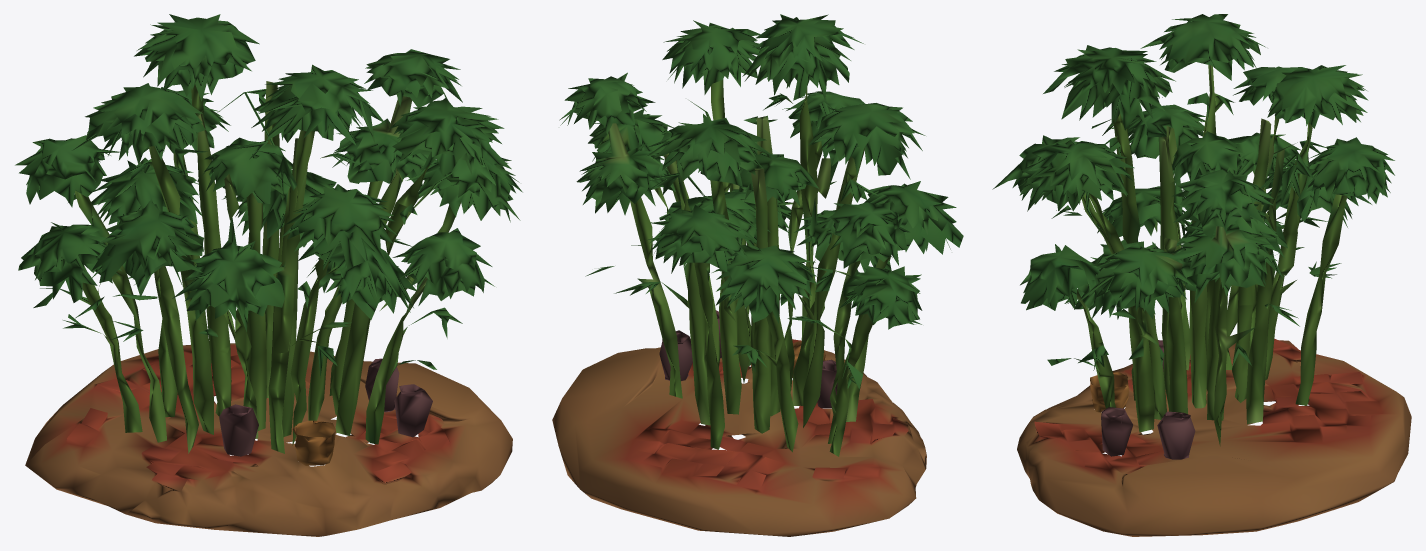
Rendered from bui-tre.50859bcc.glb.
The picture shows the model from 3 angles, left to right: view 1: azimuth 30°, elevation 25°; view 2: azimuth 150°, elevation 25°; view 3: azimuth 270°, elevation 25°; orthographic projection. The views are drawn at different scales.
Visible parts, largest first — view 1: tripo_part_1, tripo_part_4, tripo_part_5, tripo_part_7, tripo_part_3, tripo_part_2, tripo_part_0, tripo_part_8, tripo_part_12, tripo_part_9, tripo_part_11, tripo_part_20 (+19 smaller); view 2: tripo_part_1, tripo_part_5, tripo_part_2, tripo_part_7, tripo_part_4, tripo_part_8, tripo_part_0, tripo_part_3, tripo_part_10, tripo_part_23, tripo_part_21, tripo_part_27 (+18 smaller); view 3: tripo_part_1, tripo_part_2, tripo_part_4, tripo_part_0, tripo_part_8, tripo_part_7, tripo_part_12, tripo_part_21, tripo_part_10, tripo_part_5, tripo_part_3, tripo_part_15 (+20 smaller).
Part boxes in pixels (x1=…): tripo_part_1: x1=25, y1=343, x2=512, y2=536; tripo_part_4: x1=229, y1=64, x2=385, y2=453; tripo_part_5: x1=15, y1=135, x2=166, y2=442; tripo_part_7: x1=72, y1=83, x2=213, y2=434; tripo_part_3: x1=91, y1=200, x2=203, y2=453; tripo_part_2: x1=329, y1=96, x2=522, y2=395; tripo_part_0: x1=385, y1=98, x2=511, y2=254; tripo_part_8: x1=134, y1=14, x2=259, y2=212; tripo_part_12: x1=365, y1=228, x2=494, y2=444; tripo_part_9: x1=290, y1=243, x2=416, y2=445; tripo_part_11: x1=172, y1=217, x2=284, y2=331; tripo_part_20: x1=281, y1=184, x2=397, y2=269; tripo_part_1: x1=552, y1=339, x2=926, y2=536; tripo_part_5: x1=807, y1=202, x2=922, y2=443; tripo_part_2: x1=576, y1=108, x2=682, y2=398; tripo_part_7: x1=803, y1=103, x2=925, y2=427; tripo_part_4: x1=742, y1=14, x2=863, y2=368; tripo_part_8: x1=646, y1=114, x2=775, y2=321; tripo_part_0: x1=662, y1=20, x2=777, y2=192; tripo_part_3: x1=846, y1=181, x2=963, y2=421; tripo_part_10: x1=647, y1=205, x2=754, y2=271; tripo_part_23: x1=712, y1=245, x2=816, y2=314; tripo_part_21: x1=559, y1=72, x2=655, y2=134; tripo_part_27: x1=751, y1=168, x2=771, y2=433; tripo_part_1: x1=1017, y1=338, x2=1411, y2=536; tripo_part_2: x1=1079, y1=224, x2=1277, y2=446; tripo_part_4: x1=1043, y1=45, x2=1175, y2=400; tripo_part_0: x1=1017, y1=140, x2=1134, y2=254; tripo_part_8: x1=1267, y1=65, x2=1368, y2=275; tripo_part_7: x1=1140, y1=14, x2=1265, y2=361; tripo_part_12: x1=1020, y1=244, x2=1115, y2=408; tripo_part_21: x1=1172, y1=169, x2=1273, y2=237; tripo_part_10: x1=1306, y1=137, x2=1394, y2=203; tripo_part_5: x1=1226, y1=66, x2=1326, y2=369; tripo_part_3: x1=1110, y1=104, x2=1205, y2=370; tripo_part_15: x1=1295, y1=194, x2=1347, y2=405.
Bounding box in the file's own units: 0.9607 × 0.9012 × 0.8723.
